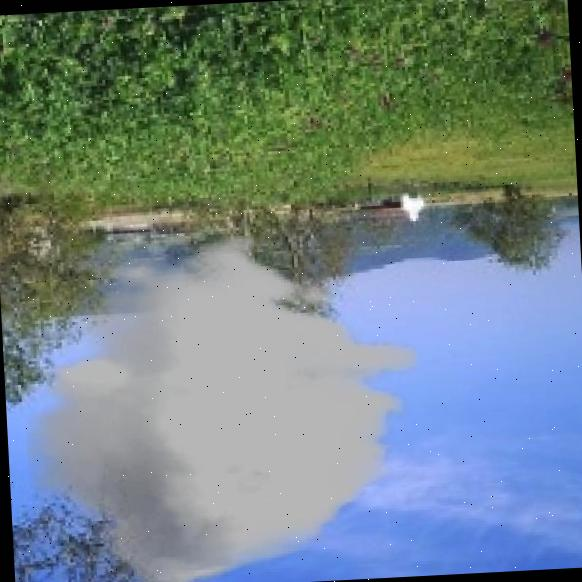smoke: (16, 224, 428, 582)
